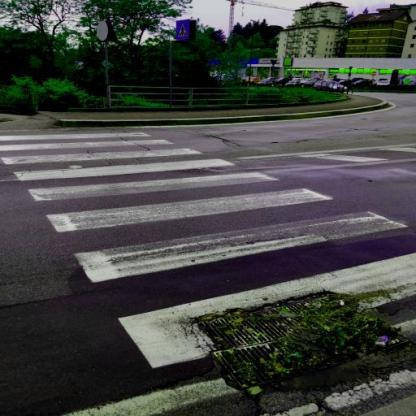crosswalk: (20, 170, 354, 236)
